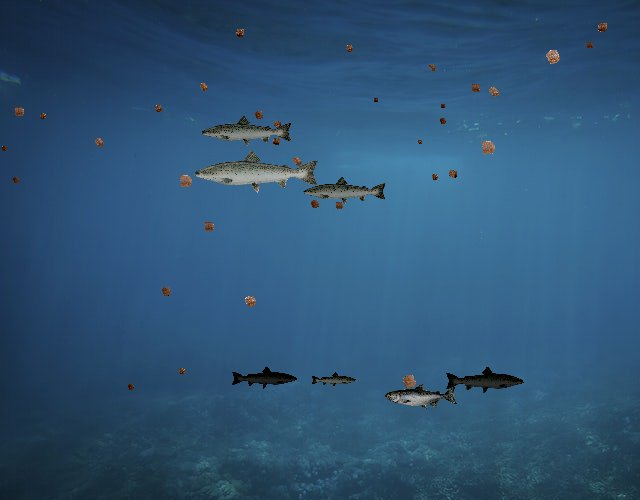Fish: (192, 148, 321, 194), (200, 115, 294, 149), (302, 175, 388, 206), (445, 366, 526, 395), (386, 383, 459, 410), (230, 365, 298, 390), (310, 371, 357, 388)
Pellet: (238, 289, 263, 314), (341, 40, 358, 57), (174, 364, 189, 379), (124, 380, 138, 394), (428, 170, 442, 184), (36, 109, 50, 123)
